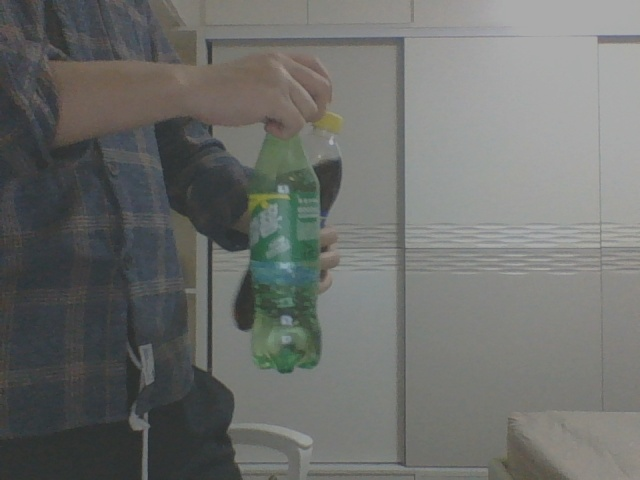Sprite: (248, 120, 323, 373)
